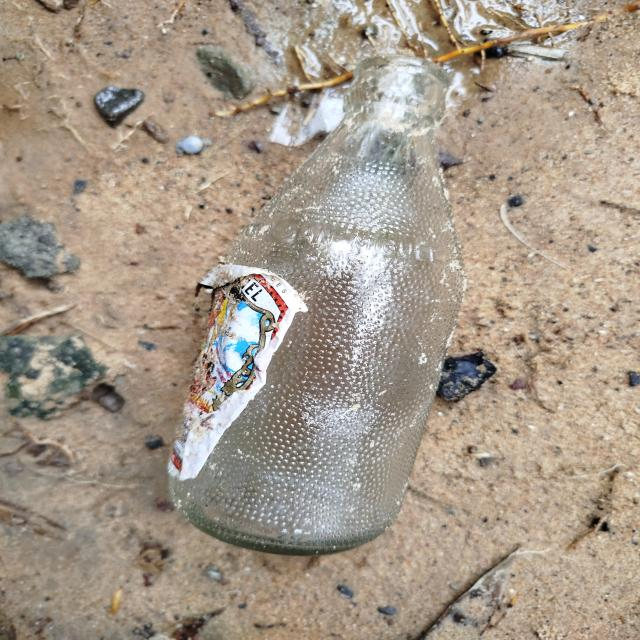glass: (150, 32, 486, 563)
